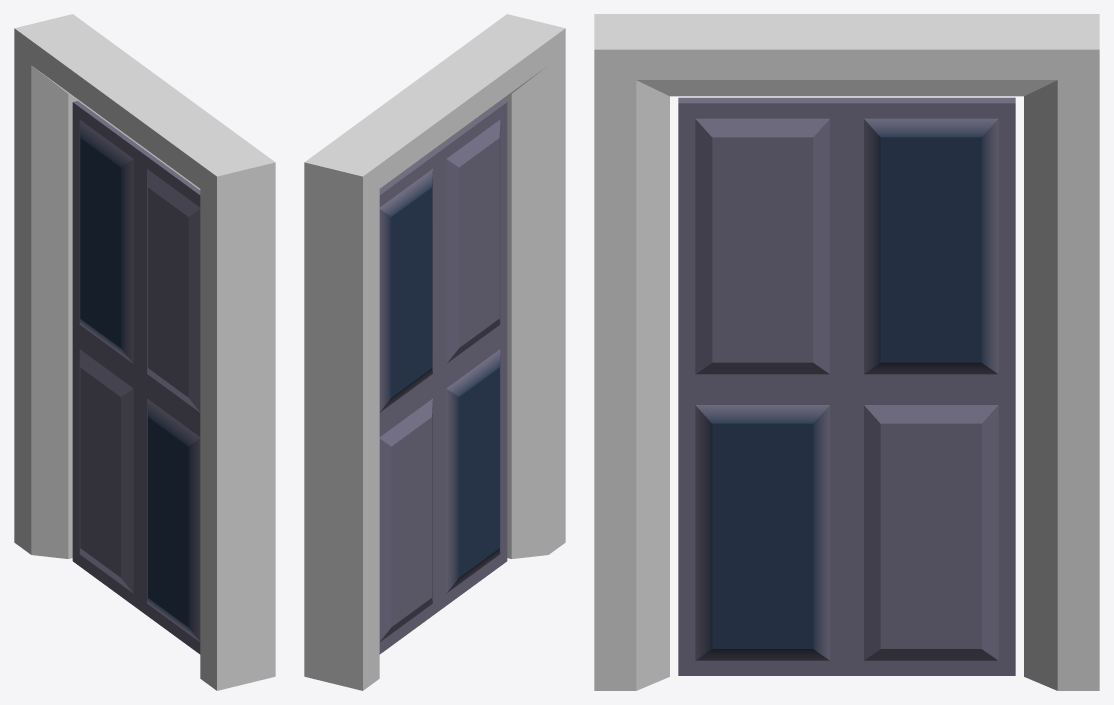
File: Door.fbx
The picture shows the model from 3 angles, left to right: view 1: azimuth 30°, elevation 25°; view 2: azimuth 150°, elevation 25°; view 3: azimuth 270°, elevation 25°; orthographic projection. The views are drawn at different scales.
Parts seen in each view (by area): view 1: Cube, Cube.001; view 2: Cube, Cube.001; view 3: Cube.001, Cube.
Boxes of the visible parts, <box> form: Cube: <box>14,14,275,690</box>; Cube.001: <box>72,101,200,654</box>; Cube: <box>304,14,565,690</box>; Cube.001: <box>379,101,507,654</box>; Cube.001: <box>678,97,1015,675</box>; Cube: <box>594,14,1099,690</box>.
Size of the model in its own units: 50 by 420 by 300.
